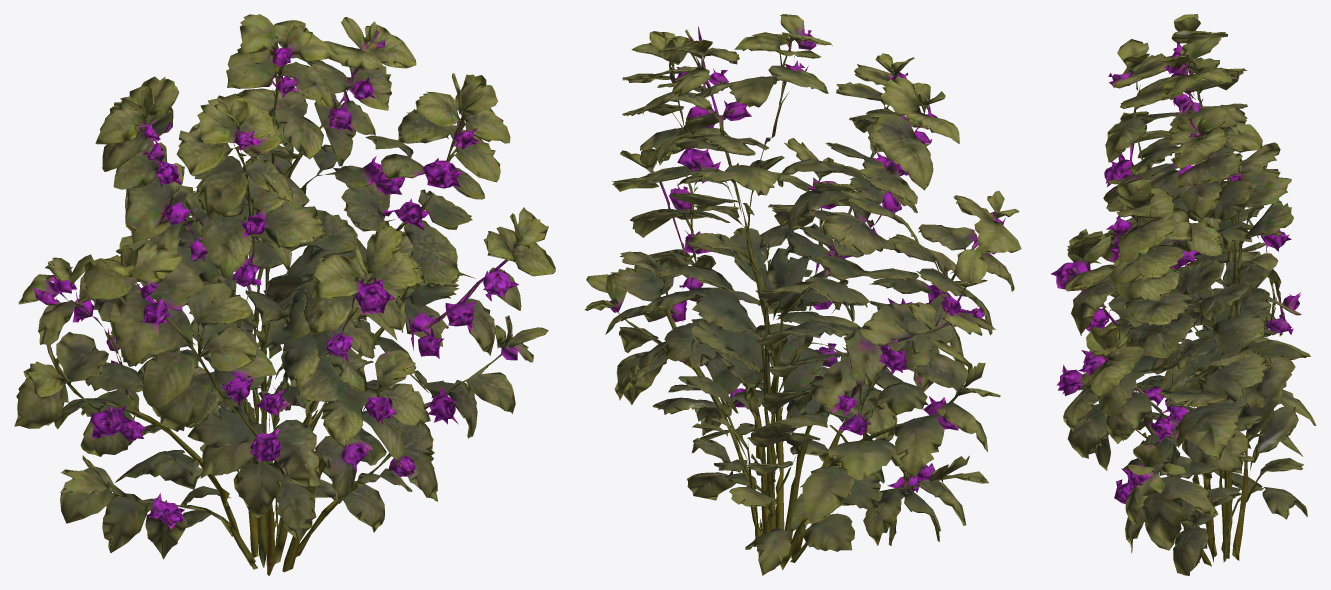
File: JapaneseBeautyberry.glb
3 renders of one model, left to right at view 1: azimuth 30°, elevation 25°; view 2: azimuth 150°, elevation 25°; view 3: azimuth 270°, elevation 25°, orthographic. The views are drawn at different scales.
Parts seen in each view (by area): view 1: Mesh_0; view 2: Mesh_0; view 3: Mesh_0.
Boxes of the visible parts, x1,y1,x2,y2 form: Mesh_0: (14, 14, 555, 575); Mesh_0: (584, 14, 1021, 575); Mesh_0: (1051, 14, 1316, 575).
Bounding box in the file's own units: 0.8955 × 1 × 0.4674.
Materials: 1 (1 with a texture image).
